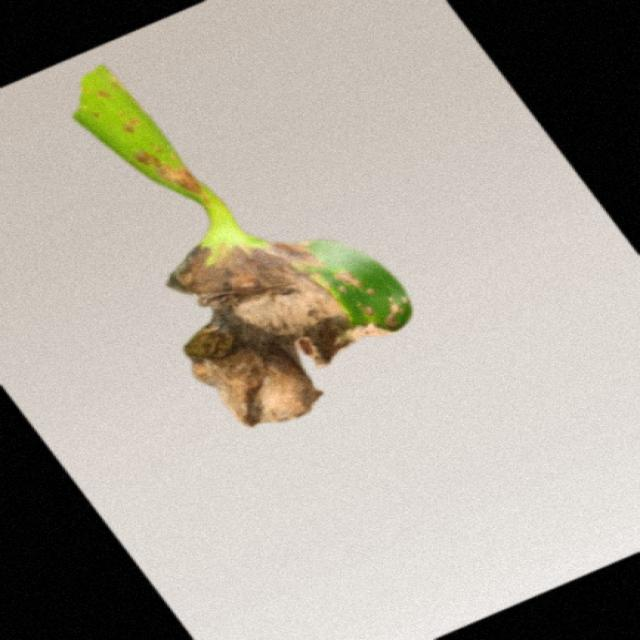daun berpenyakit karat: (73, 65, 410, 426)
